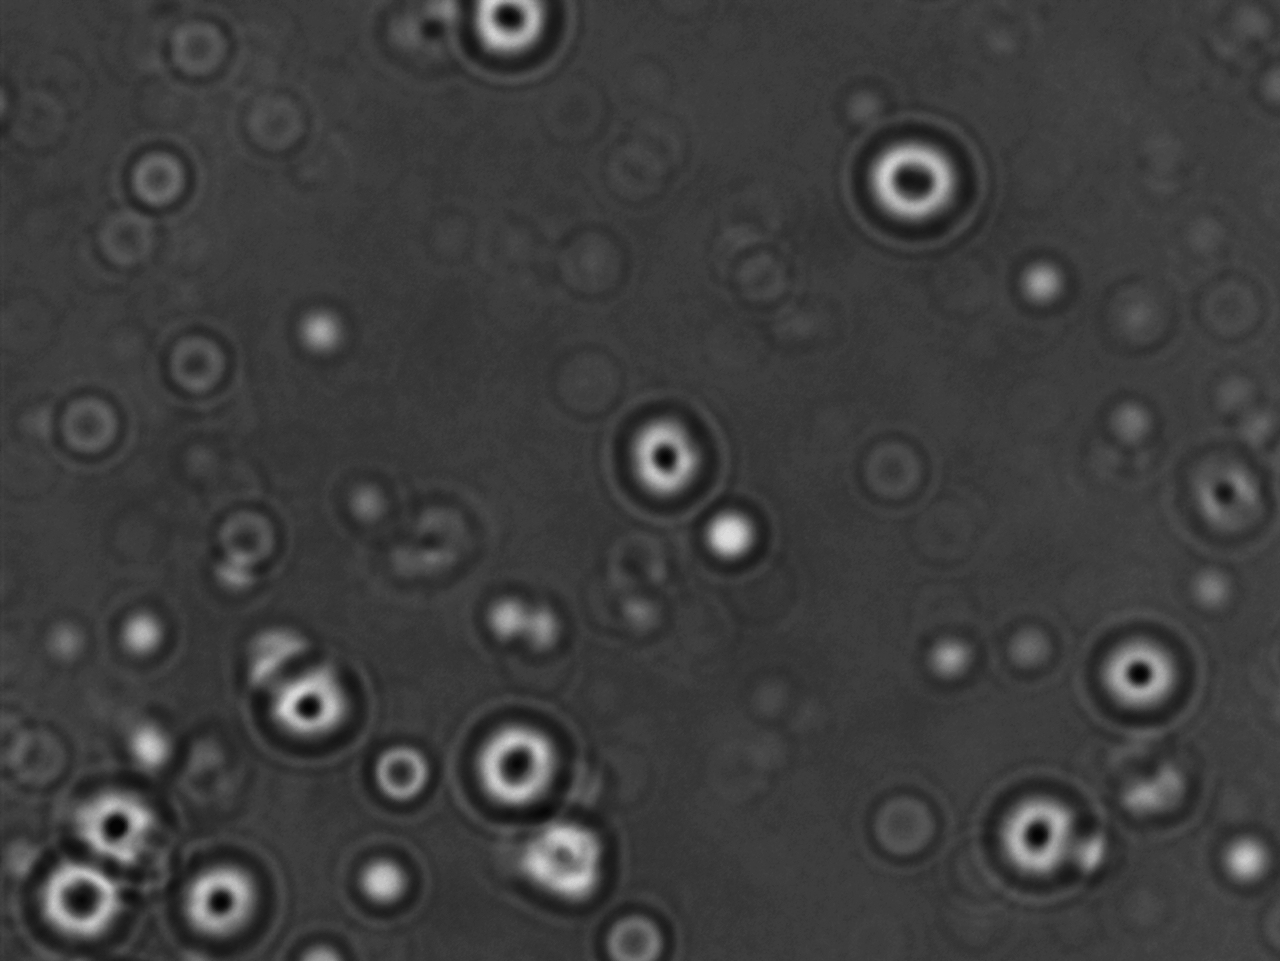depth:16: (840, 113, 982, 250), (604, 393, 733, 514), (980, 775, 1108, 893), (461, 691, 585, 812), (157, 847, 282, 957), (55, 758, 166, 880), (1080, 616, 1189, 732), (255, 645, 367, 754), (27, 851, 139, 956)
